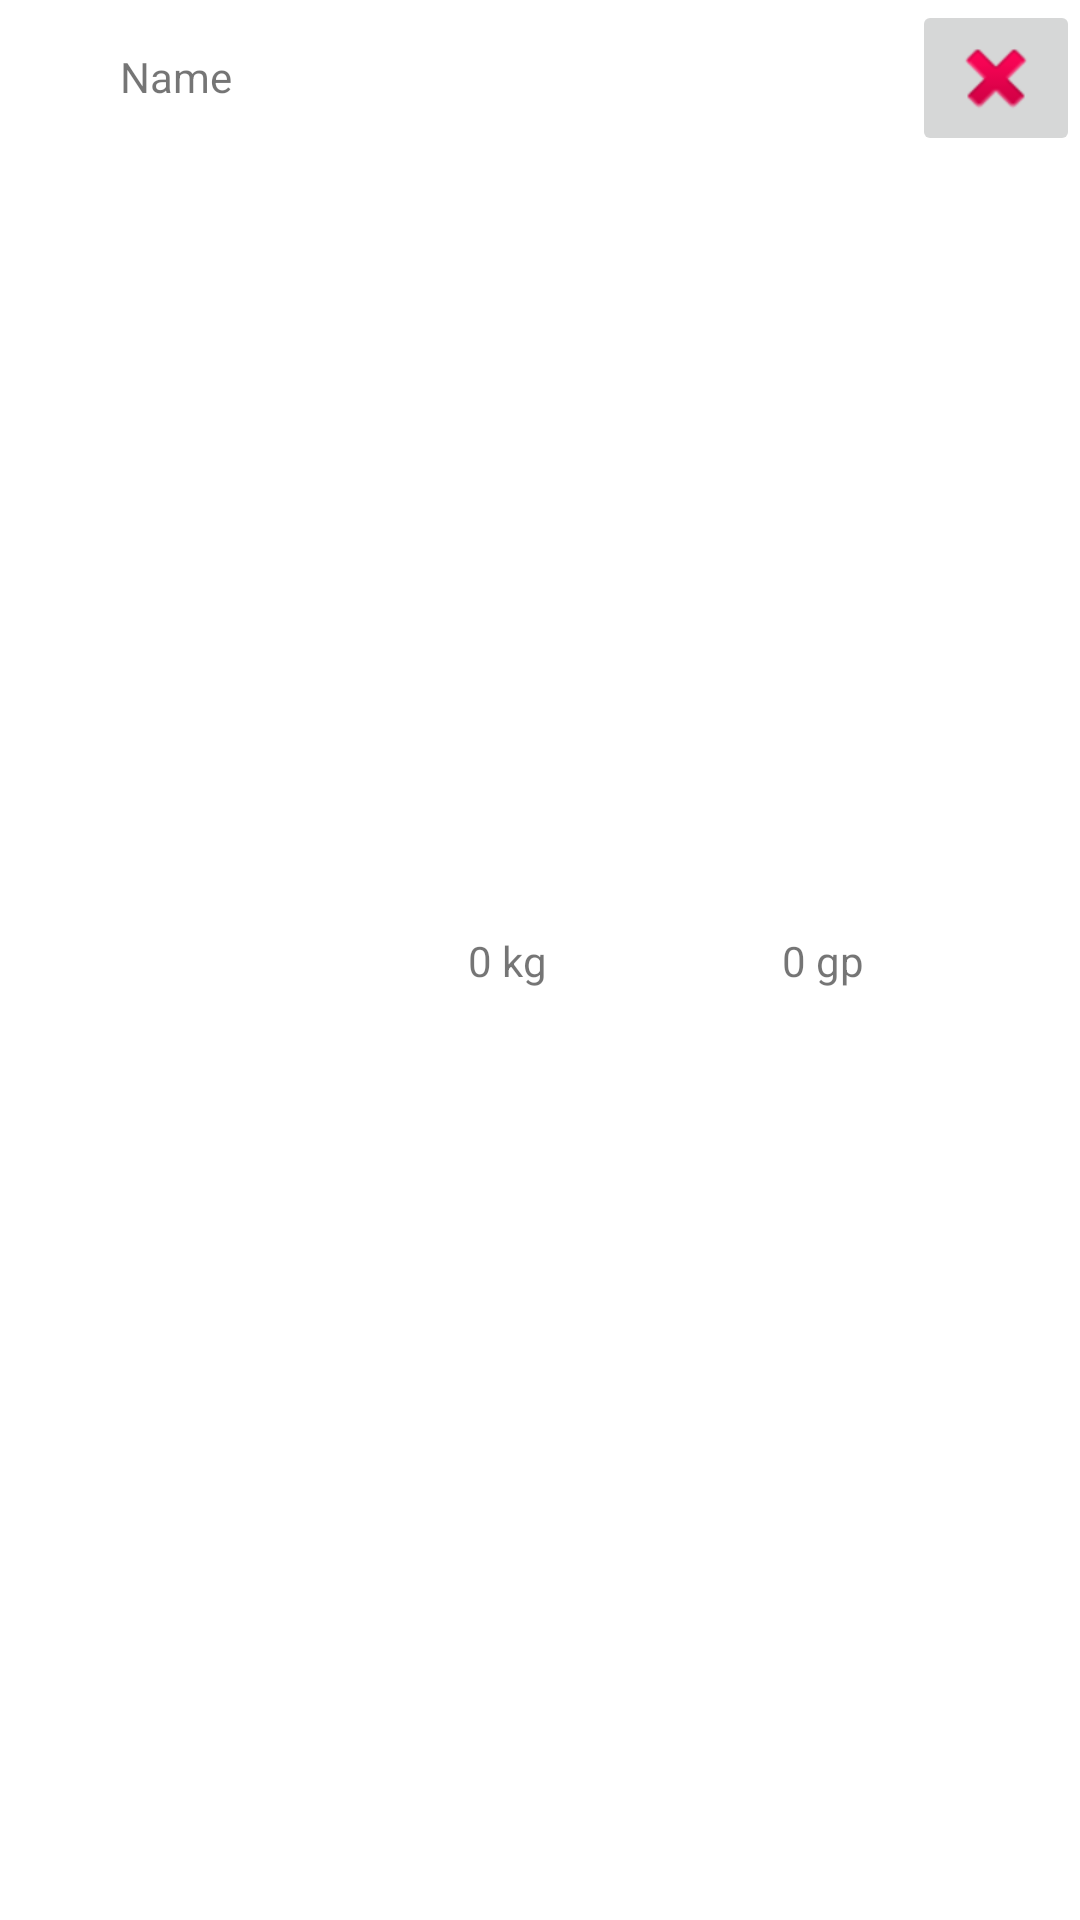

Where icons sit on this 1080w x 1920h app screen, as (x1=x1, y1=y1, x2=x2, y2=y2):
delete: (x1=924, y1=18, x2=1068, y2=138)
